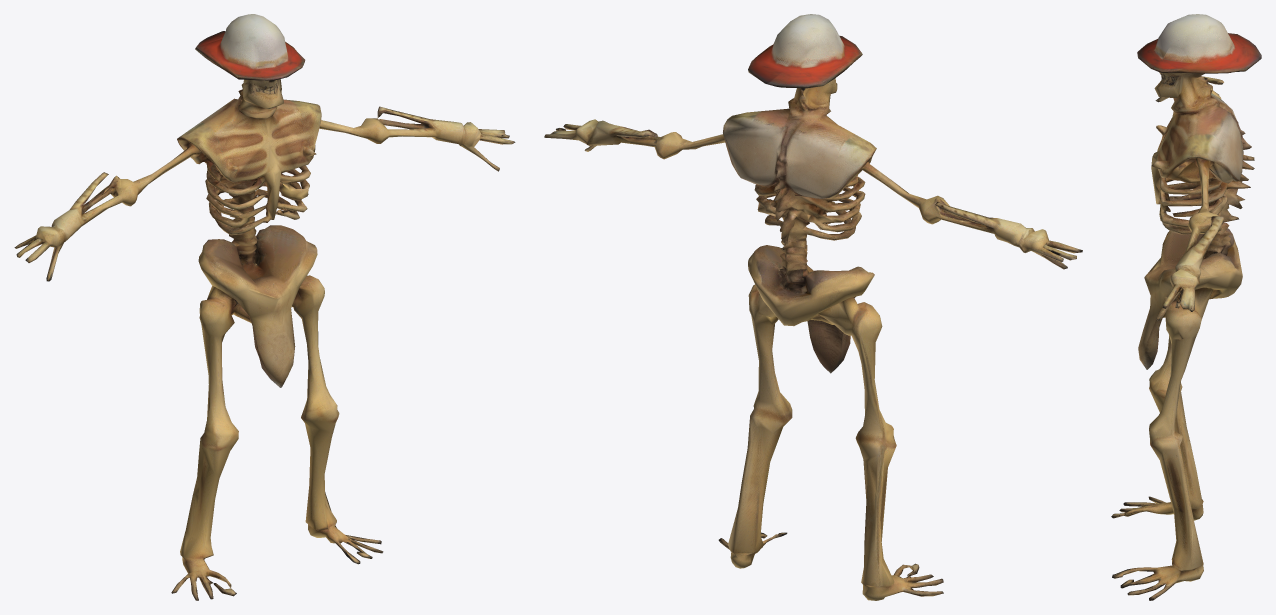
Rendered from skeleton.glb.
3 views of the same model, side by side, from view 1: azimuth 30°, elevation 25°; view 2: azimuth 150°, elevation 25°; view 3: azimuth 270°, elevation 25° (orthographic). The views are drawn at different scales.
Bounding box in the file's own units: 1.93 × 2 × 0.5104.
Materials: 1 (1 with a texture image).
